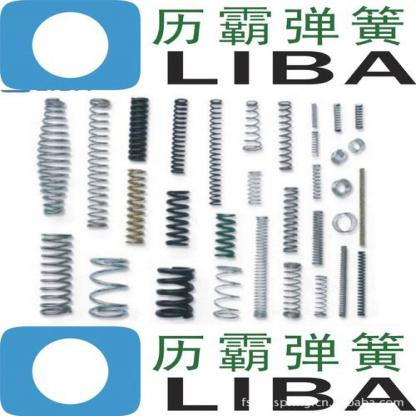FOD: (34, 96, 72, 218), (82, 96, 113, 230), (35, 229, 76, 322), (83, 254, 133, 321), (153, 265, 196, 320), (123, 166, 150, 249), (206, 96, 225, 207), (166, 97, 192, 175), (163, 186, 194, 248), (212, 264, 245, 319), (127, 94, 152, 164), (279, 261, 307, 322), (279, 184, 303, 255), (276, 98, 296, 173), (238, 99, 265, 154), (210, 211, 240, 260), (310, 272, 330, 319), (245, 166, 266, 207)
